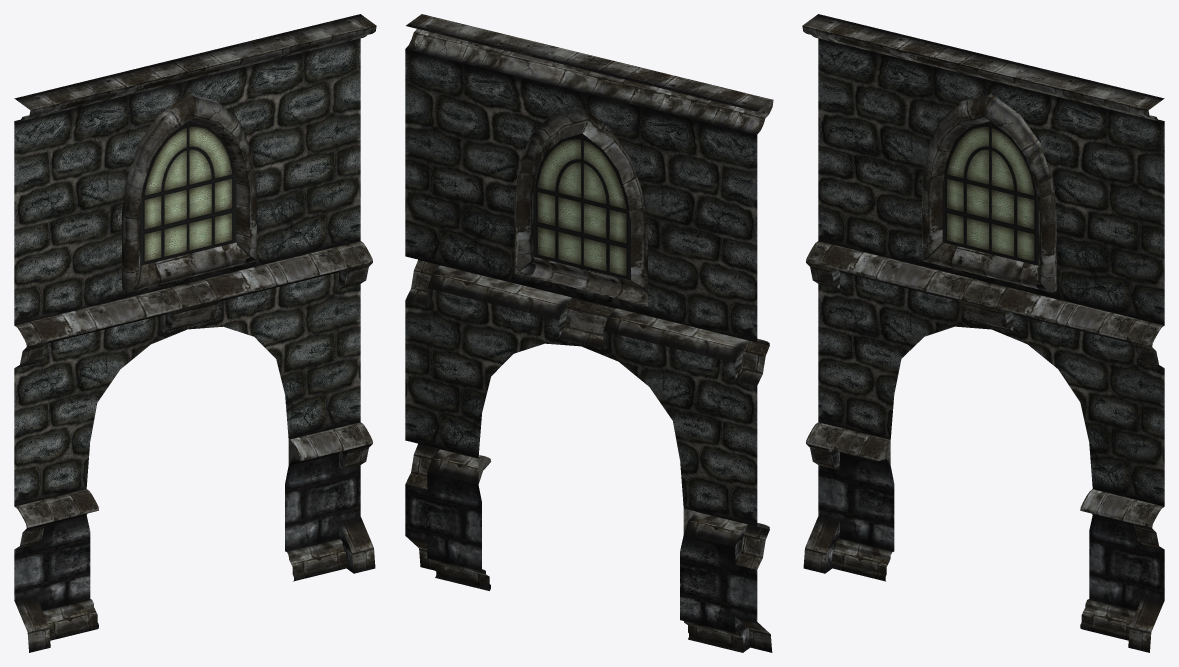
The model's file is door_way_window.DAE.
The picture shows the model from 3 angles, left to right: view 1: azimuth 30°, elevation 25°; view 2: azimuth 150°, elevation 25°; view 3: azimuth 330°, elevation 25°; orthographic projection.
Parts seen in each view (by area): view 1: Object109, Object108, Object110, Object111; view 2: Object108, Object109, Object110, Object111; view 3: Object109, Object108, Object110, Object111.
Part boxes in pixels (x1=…): Object109: x1=14, y1=241, x2=375, y2=652; Object108: x1=14, y1=14, x2=376, y2=325; Object110: x1=140, y1=121, x2=236, y2=265; Object111: x1=122, y1=93, x2=256, y2=292; Object108: x1=405, y1=14, x2=773, y2=341; Object109: x1=405, y1=259, x2=772, y2=652; Object110: x1=533, y1=133, x2=630, y2=280; Object111: x1=514, y1=107, x2=647, y2=306; Object109: x1=803, y1=241, x2=1164, y2=652; Object108: x1=802, y1=14, x2=1164, y2=325; Object110: x1=942, y1=121, x2=1038, y2=265; Object111: x1=922, y1=93, x2=1056, y2=292.
Size of the model in its own units: 4 by 6 by 0.3222.
